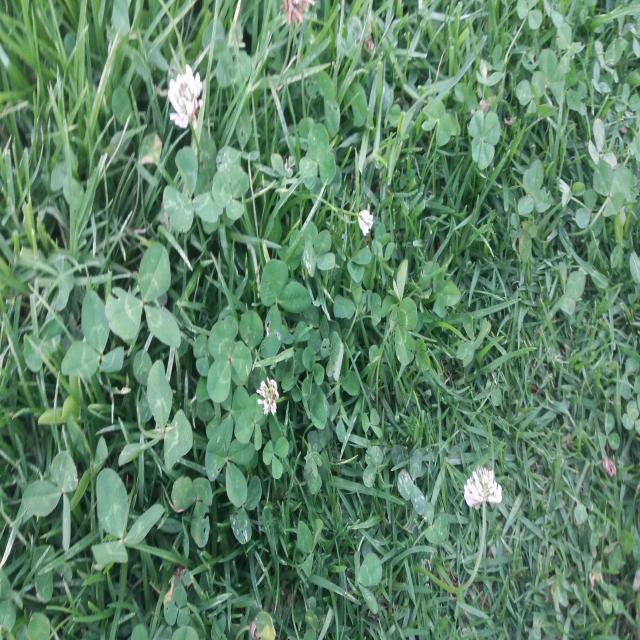Four Leaf Clover: (469, 109, 501, 170)
